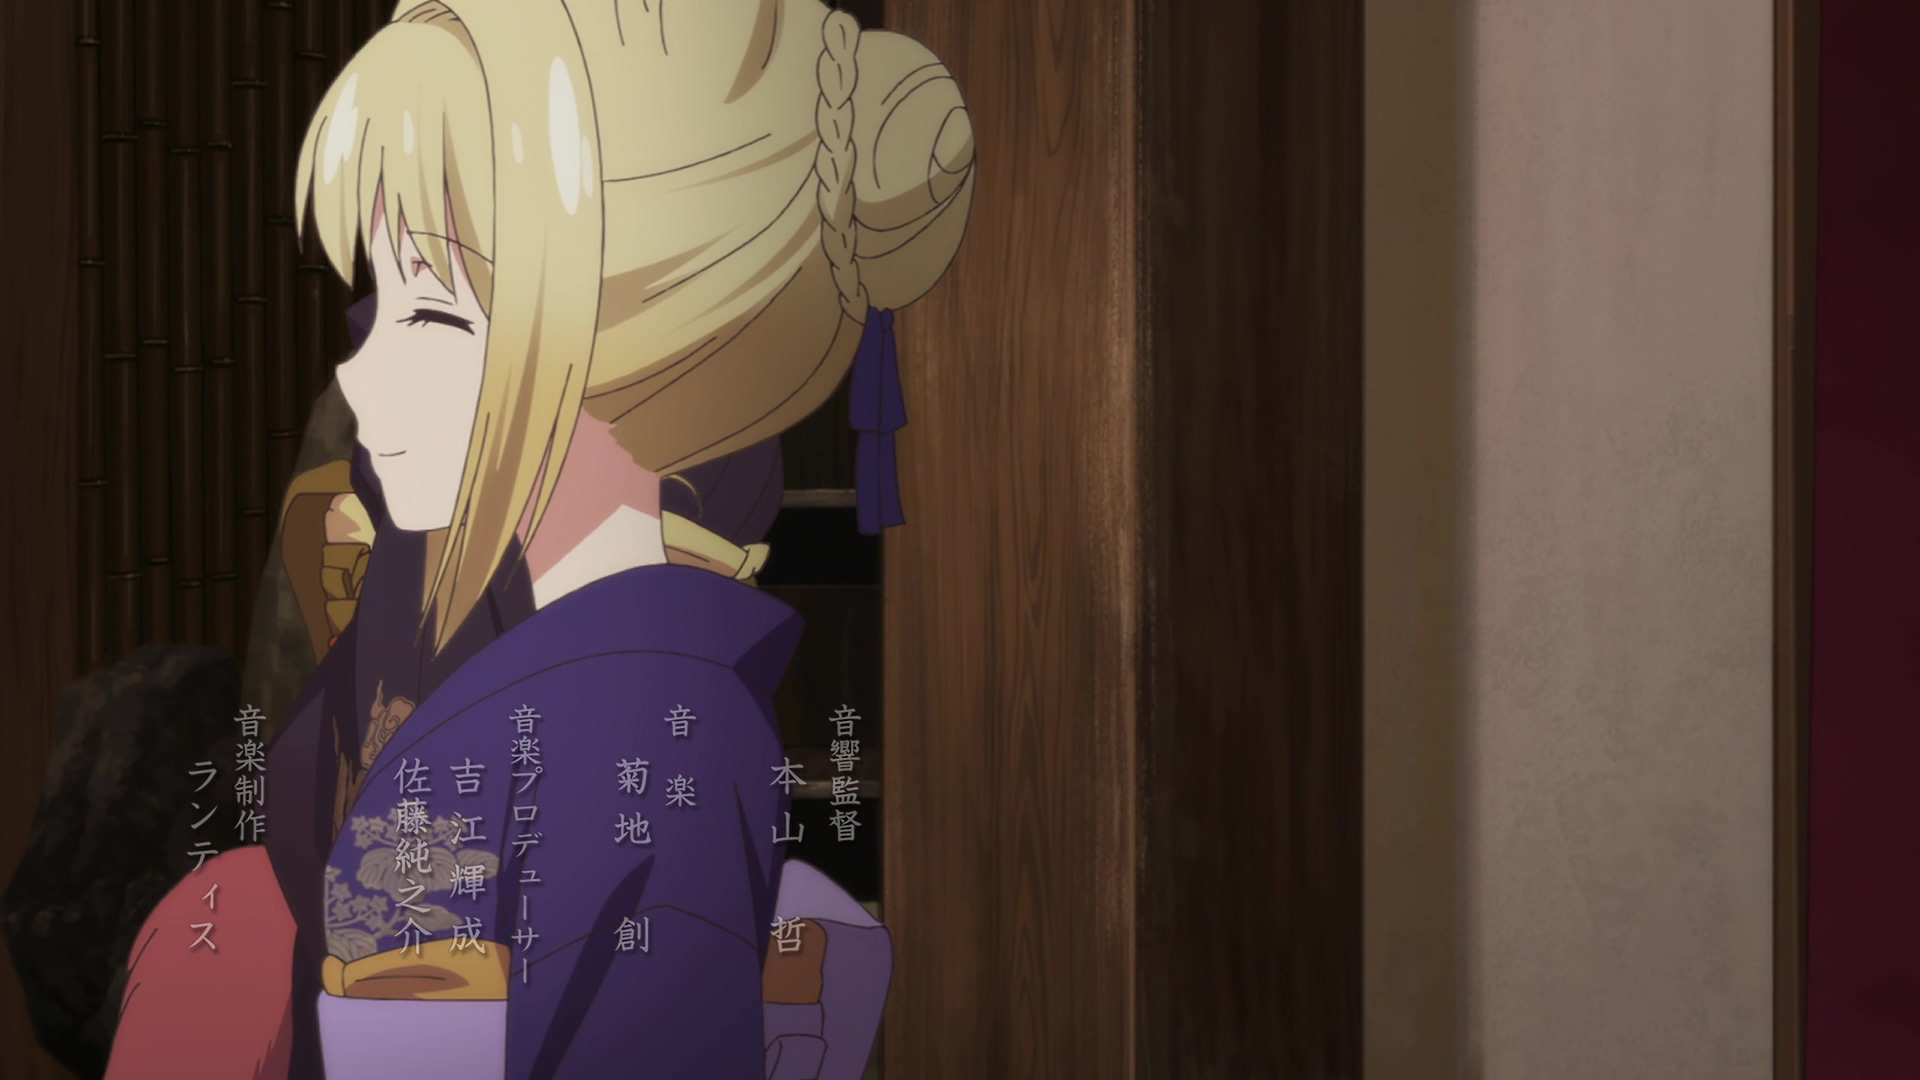桐: (295, 1, 975, 1080)
